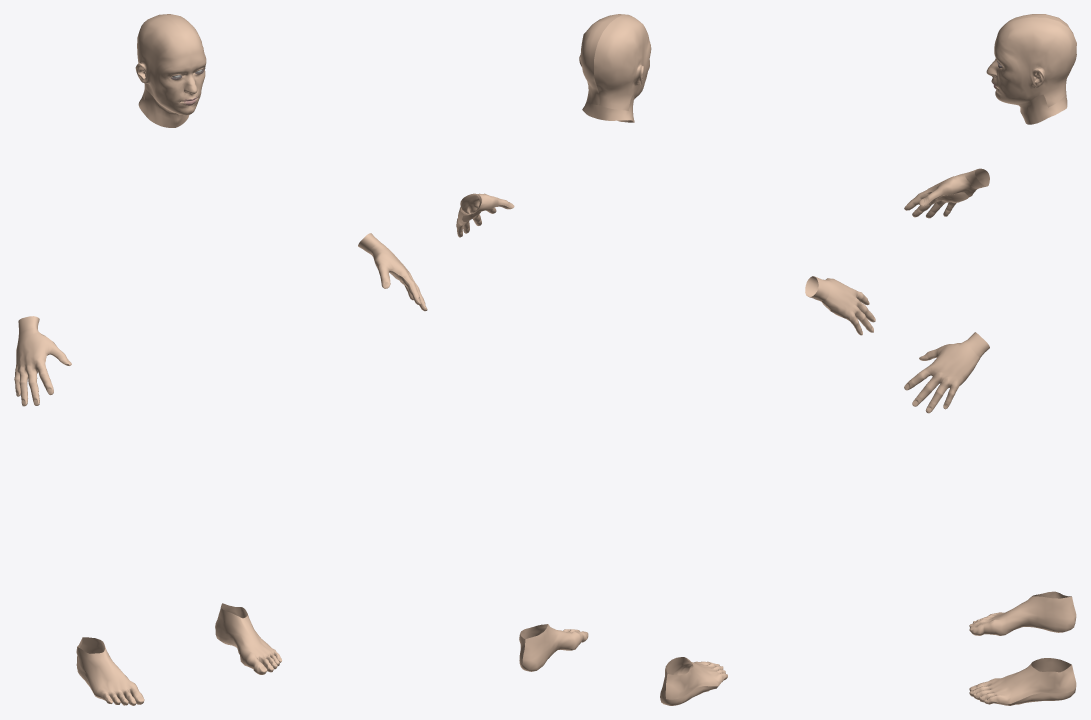
Rendered from body_outfit.glb.
3 views of the same model, side by side, from view 1: azimuth 30°, elevation 25°; view 2: azimuth 150°, elevation 25°; view 3: azimuth 270°, elevation 25° (orthographic).
Parts seen in each view (by area): view 1: Body; view 2: Body; view 3: Body.
Boxes of the visible parts, <box> form: Body: <box>14,14,427,705</box>; Body: <box>456,14,875,705</box>; Body: <box>904,14,1076,705</box>.
Size of the model in its own units: 1.14 by 1.75 by 0.4227.
